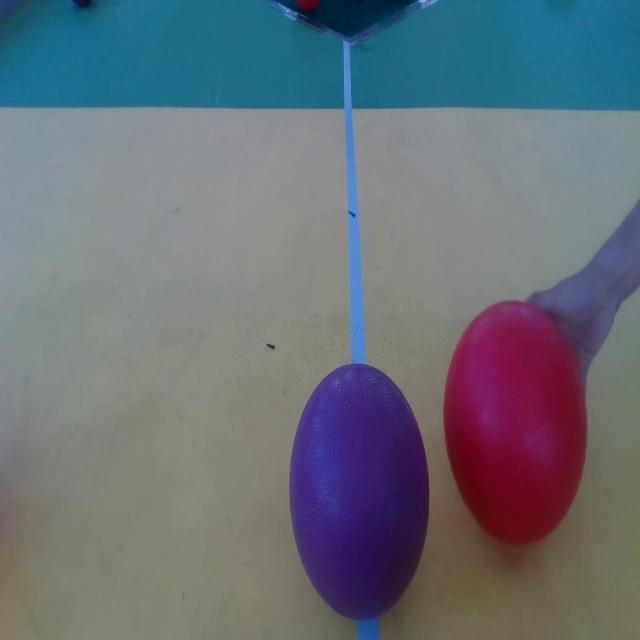invalid: (293, 371, 433, 614)
red: (443, 300, 588, 548)
